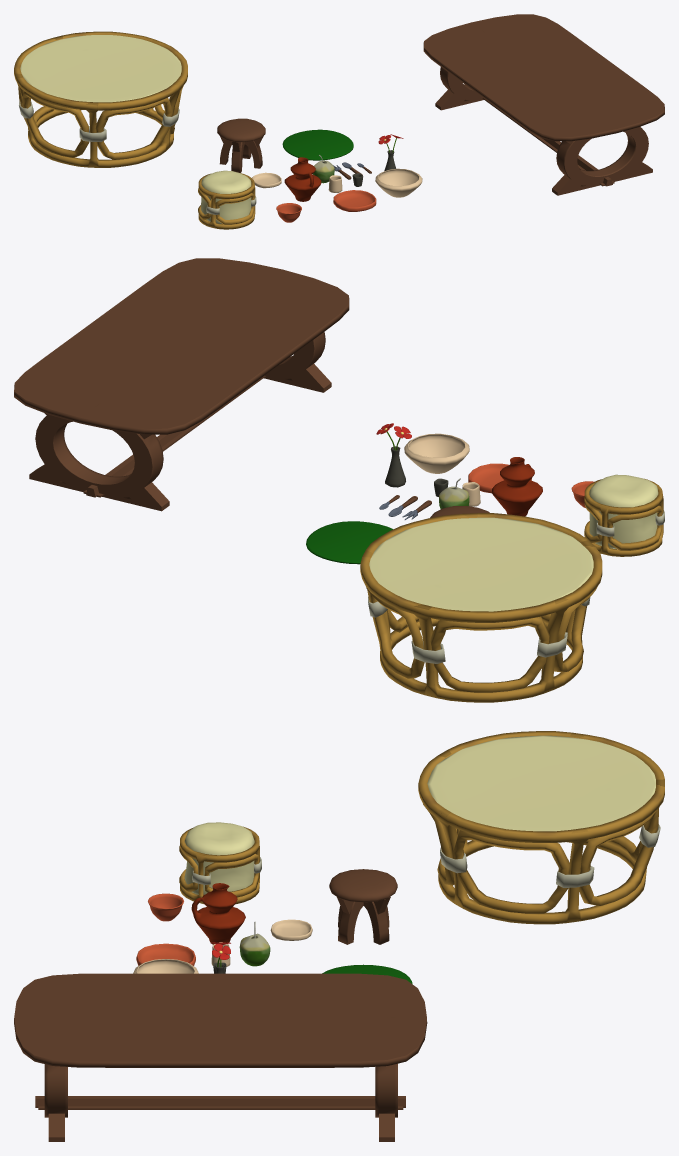
File: Furnitures.fbx
3 renders of one model, top to bottom at view 1: azimuth 30°, elevation 25°; view 2: azimuth 150°, elevation 25°; view 3: azimuth 270°, elevation 25°, orthographic. The views are drawn at different scales.
Visible parts, largest first — view 1: BigWoodenTable, RoundTable, LinenRoundChair, WoodenChair, Placemate, Pitcher, LargeBowl, LargeDish, SmallBowl, SmallDish, CoconutCup; view 2: BigWoodenTable, RoundTable, LinenRoundChair, Placemate, LargeBowl, Pitcher, LargeDish; view 3: BigWoodenTable, RoundTable, LinenRoundChair, WoodenChair, Pitcher, LargeDish, CoconutCup, LargeBowl, SmallBowl, SmallDish, Placemate.
Part boxes in pixels (box(x1,y1,x2,y2)): BigWoodenTable: box(423, 14, 664, 195); RoundTable: box(14, 31, 187, 167); LinenRoundChair: box(198, 170, 256, 229); WoodenChair: box(217, 118, 265, 172); Placemate: box(282, 129, 353, 160); Pitcher: box(284, 157, 321, 201); LargeBowl: box(375, 168, 422, 197); LargeDish: box(333, 190, 376, 211); SmallBowl: box(276, 203, 301, 222); SmallDish: box(252, 172, 281, 188); CoconutCup: box(313, 155, 334, 183); BigWoodenTable: box(14, 258, 349, 511); RoundTable: box(360, 513, 602, 702); LinenRoundChair: box(584, 474, 664, 556); Placemate: box(306, 521, 393, 564); LargeBowl: box(404, 433, 469, 473); Pitcher: box(492, 457, 542, 516); LargeDish: box(468, 463, 509, 493); BigWoodenTable: box(14, 973, 427, 1141); RoundTable: box(418, 731, 664, 924); LinenRoundChair: box(179, 822, 261, 904); WoodenChair: box(329, 869, 397, 944); Pitcher: box(191, 883, 245, 944); LargeDish: box(136, 943, 195, 965); CoconutCup: box(239, 921, 270, 966); LargeBowl: box(133, 959, 198, 973); SmallBowl: box(148, 893, 183, 921); SmallDish: box(270, 919, 312, 940); Placemate: box(322, 964, 412, 983).
Bounding box in the file's own units: 427 × 60.19 × 363.
